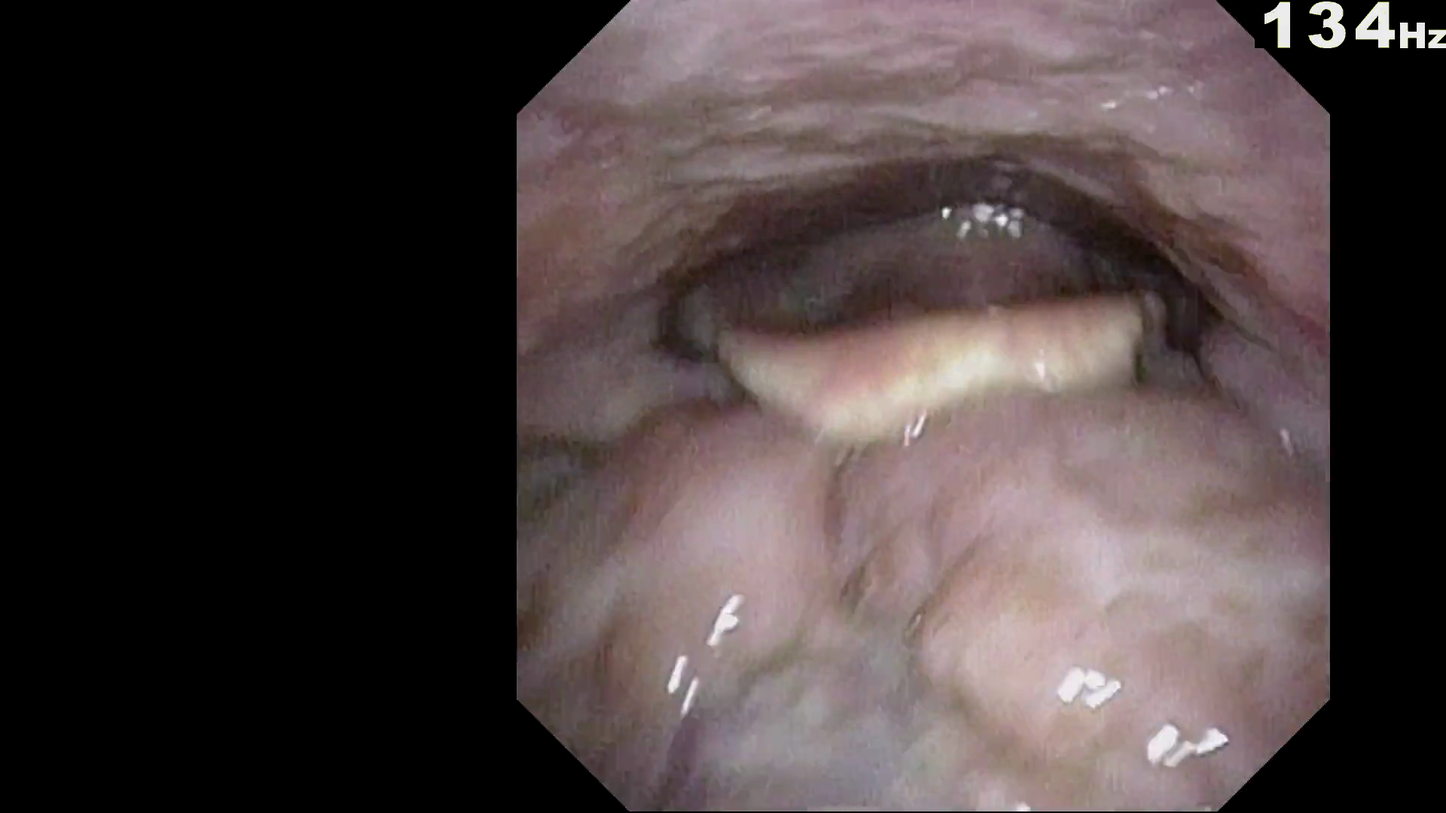epiglottis: (728, 351, 1219, 485)
